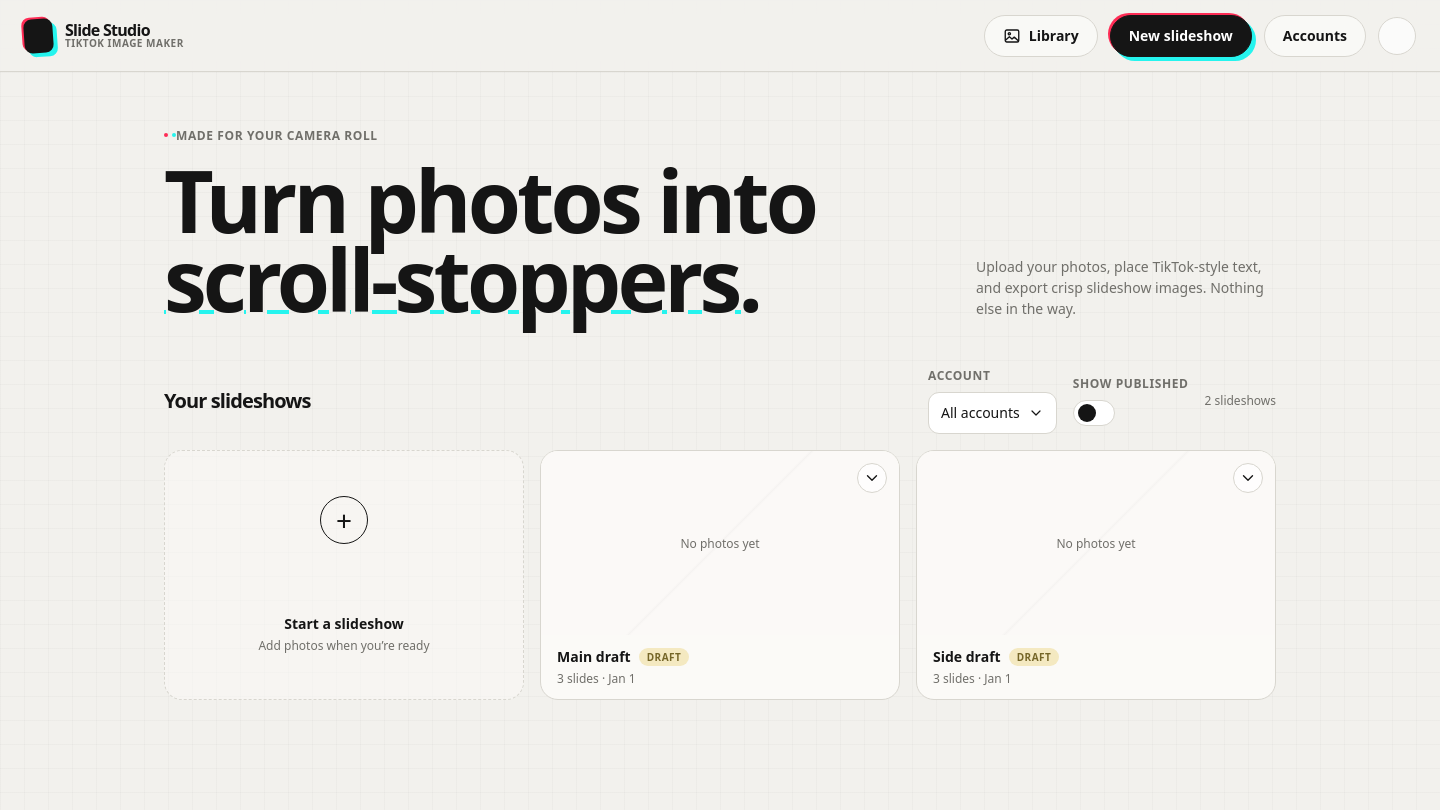
Scenario: composes the account filter with Show published, narrowing rather than resetting
The width and height of the screenshot is (1440, 810).
Expected: the text "Main draft" is shown, [557,647,631,666]
Expected: the text "Side draft" is shown, [933,647,1001,666]
// Narrow to one account: the published filter still applies alongside it.
Click the dropdown labelled "All accounts" at (992, 413), box [928,392,1057,434]
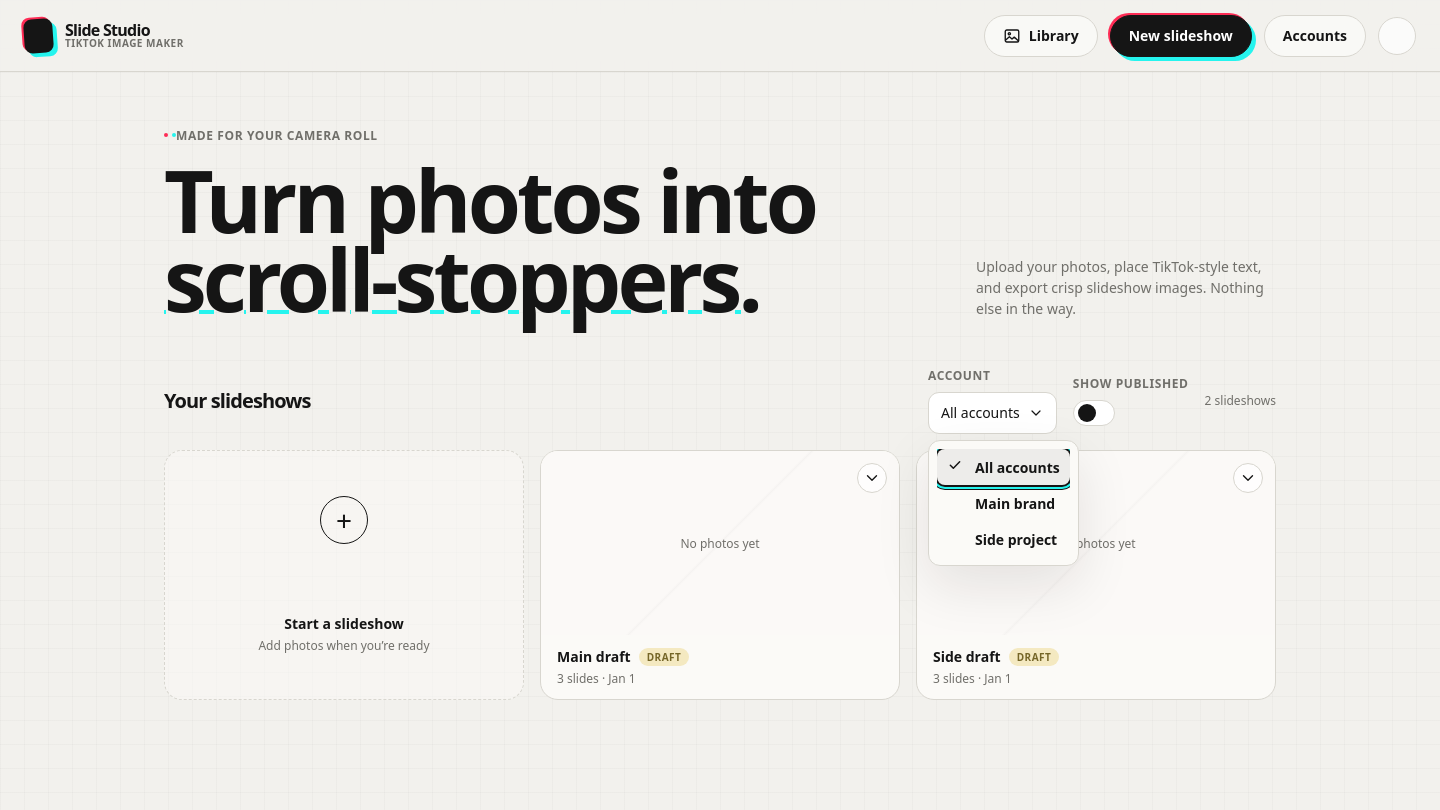
Click the option "Main brand" at (1015, 503), box [975,494,1055,512]
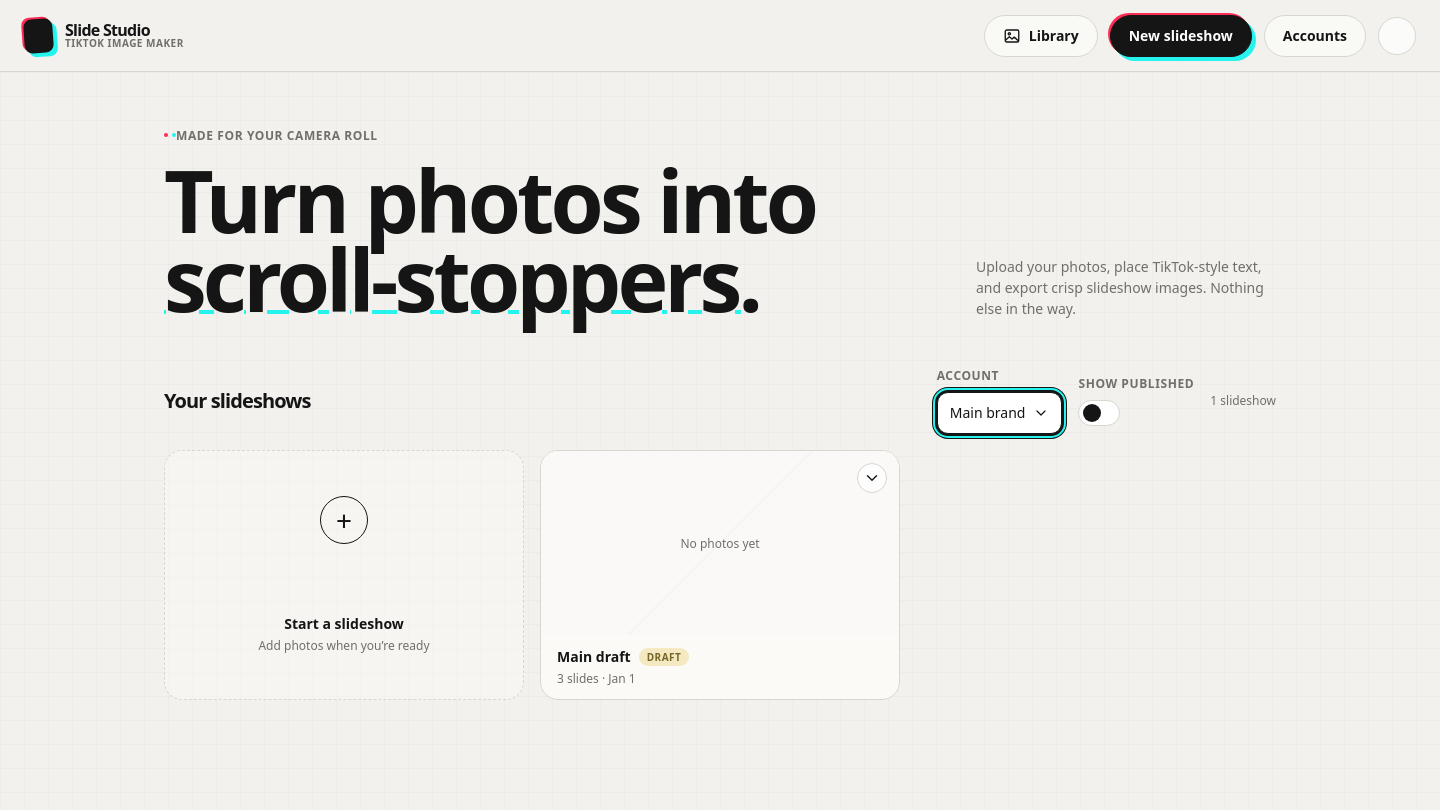
Expected: the text "Main draft" is shown, [557,647,631,666]
Click the switch named "Show published" at (1099, 413), box [1078,400,1120,426]
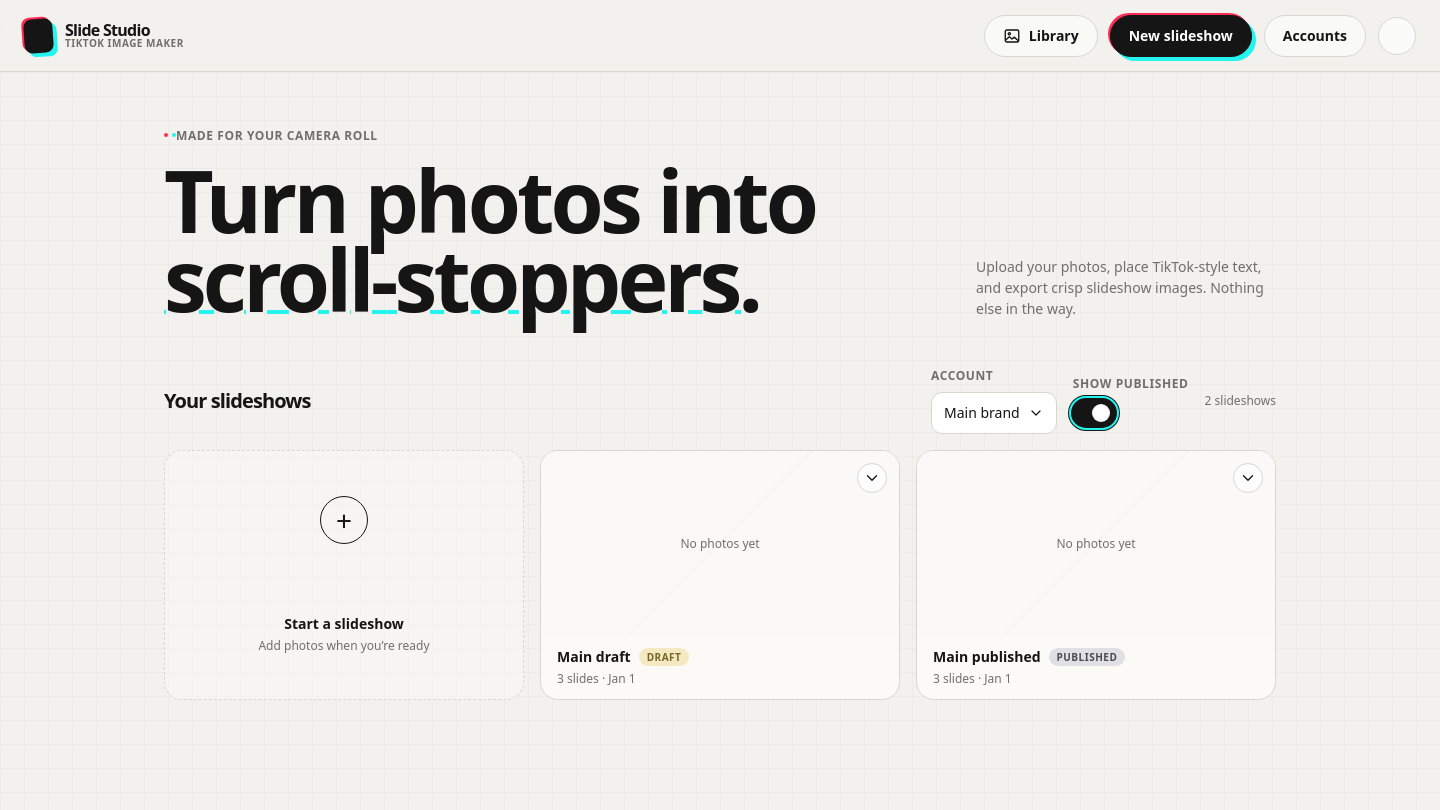
Expected: the text "Main draft" is shown, [557,647,631,666]
Expected: the text "Main published" is shown, [933,647,1040,666]
